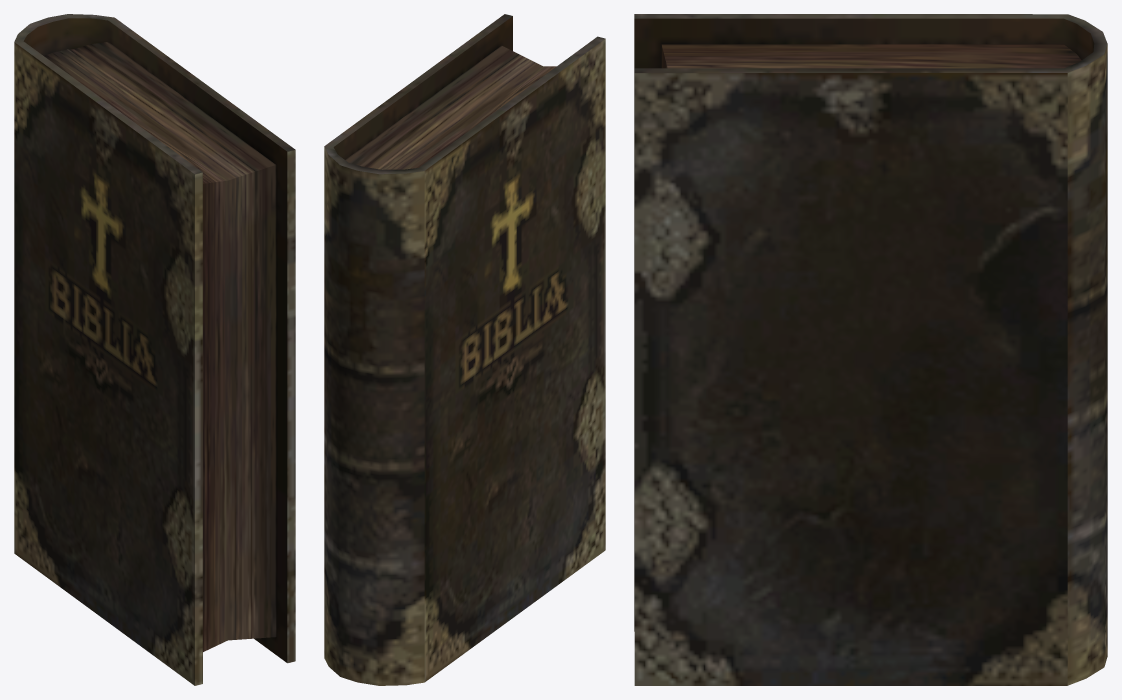
The model's file is book_bible.dae.
The picture shows the model from 3 angles, left to right: view 1: azimuth 30°, elevation 25°; view 2: azimuth 150°, elevation 25°; view 3: azimuth 270°, elevation 25°; orthographic projection. The views are drawn at different scales.
Visible parts, largest first — view 1: polySurface7; view 2: polySurface7; view 3: polySurface7.
Boxes of the visible parts, bbox=[...] form: polySurface7: bbox=[14, 14, 295, 685]; polySurface7: bbox=[324, 14, 605, 685]; polySurface7: bbox=[634, 14, 1107, 685].
Size of the model in its own units: 0.0605 by 0.2932 by 0.2051.
1 material, 1 textured.
